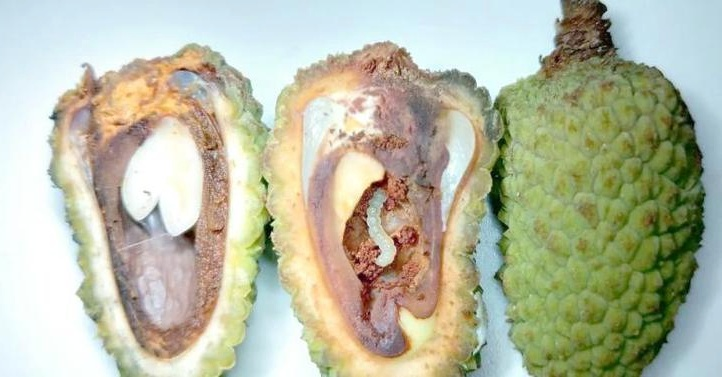Borer: (127, 161, 175, 252), (371, 173, 410, 272)
